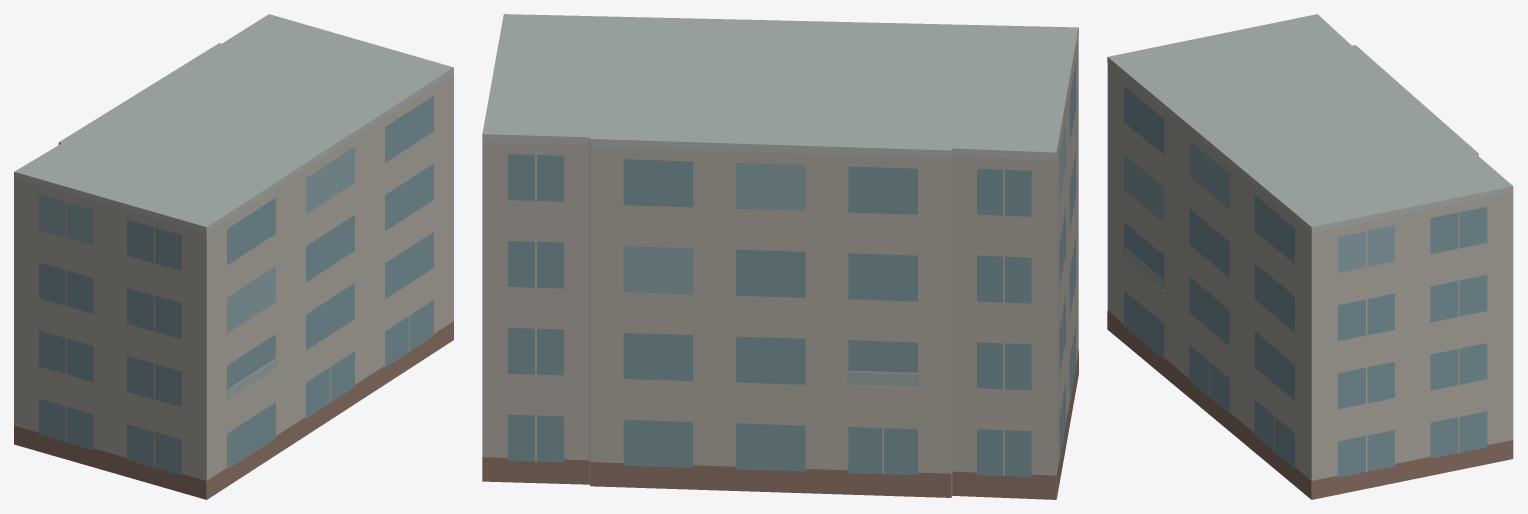
The model's file is survey-upis-32742419.glb.
3 views of the same model, side by side, from view 1: azimuth 30°, elevation 25°; view 2: azimuth 150°, elevation 25°; view 3: azimuth 270°, elevation 25° (orthographic). The views are drawn at different scales.
Visible parts, largest first — view 1: survey-upis-32742419.tmp; view 2: survey-upis-32742419.tmp; view 3: survey-upis-32742419.tmp.
Boxes of the visible parts, x1=… form: survey-upis-32742419.tmp: x1=14, y1=14, x2=453, y2=499; survey-upis-32742419.tmp: x1=482, y1=14, x2=1078, y2=499; survey-upis-32742419.tmp: x1=1107, y1=14, x2=1513, y2=499.
Bounding box in the file's own units: 18.65 × 11.12 × 15.01.
